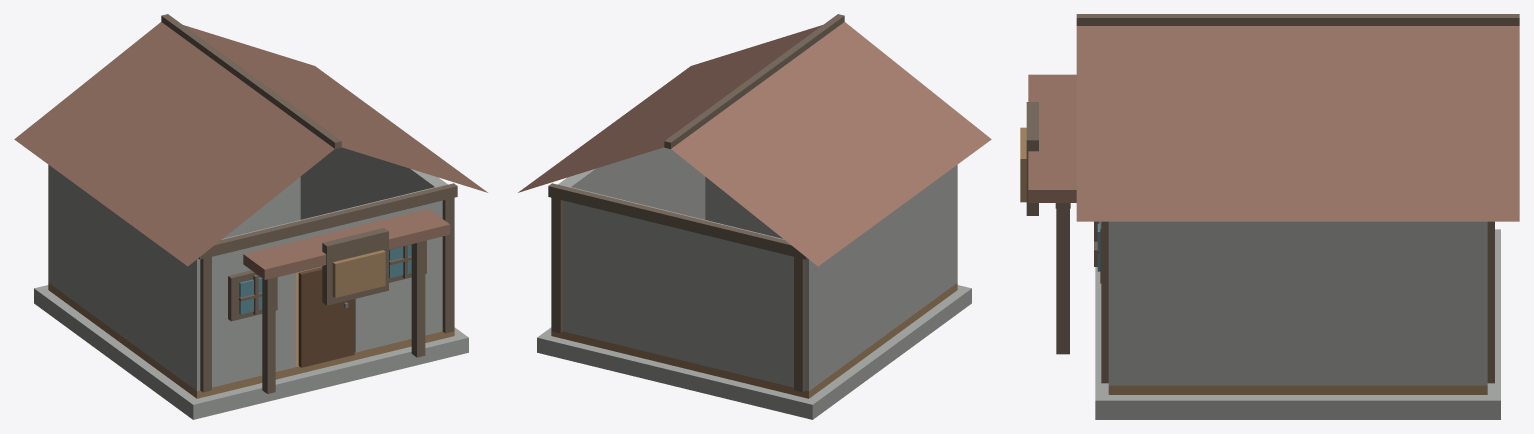
File: inn.glb
3 renders of one model, left to right at view 1: azimuth 30°, elevation 25°; view 2: azimuth 150°, elevation 25°; view 3: azimuth 270°, elevation 25°, orthographic. The views are drawn at different scales.
Parts seen in each view (by area): view 1: Player; view 2: Player; view 3: Player.
Part boxes in pixels (<box>): Player: <box>14,14,487,419</box>; Player: <box>518,14,991,419</box>; Player: <box>1020,14,1519,419</box>.
Size of the model in its own units: 5.84 by 4.63 by 6.59.
